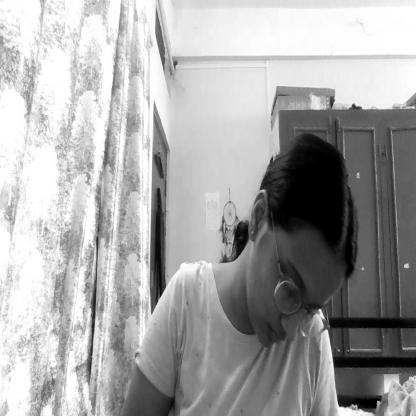Distracted: (247, 154, 349, 352)
